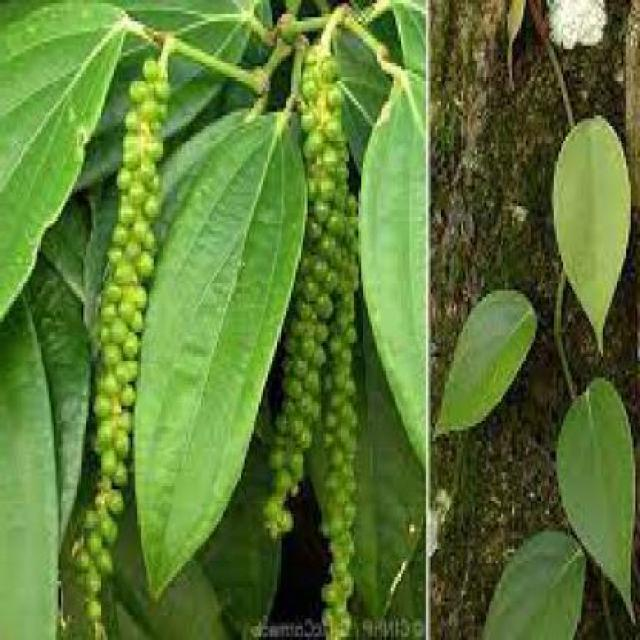UNRIPE: (83, 28, 177, 626), (279, 11, 356, 637)
